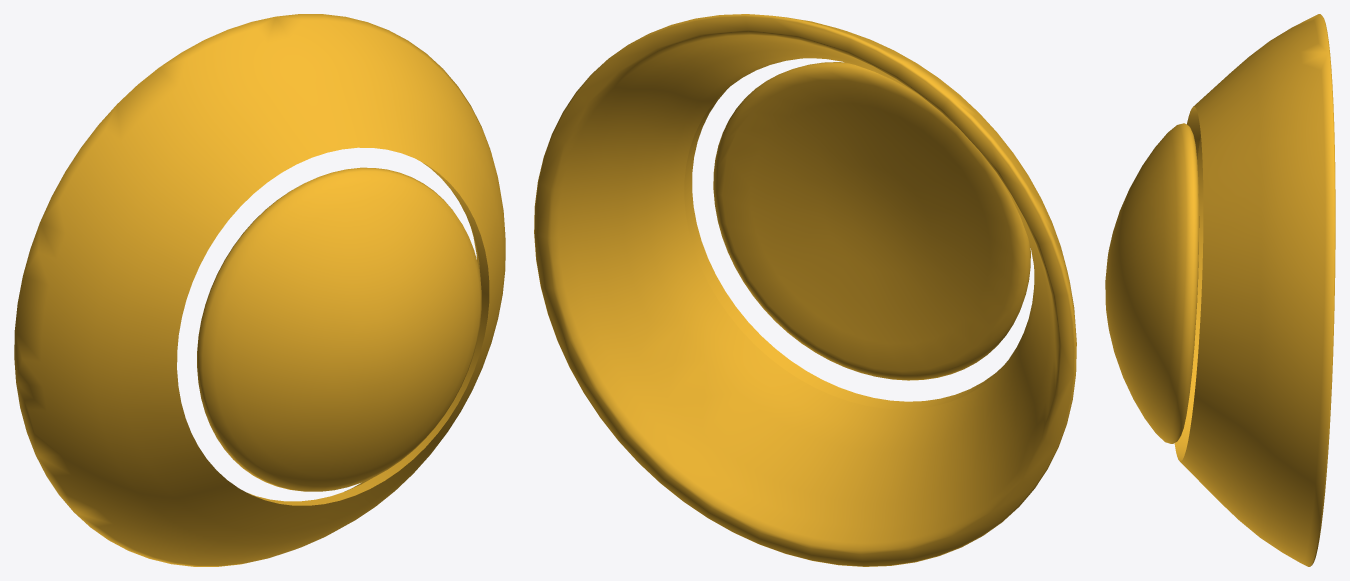
Rendered from nervoso-anterior-segment-of-eyeball-l.glb.
3 views of the same model, side by side, from view 1: azimuth 30°, elevation 25°; view 2: azimuth 150°, elevation 25°; view 3: azimuth 270°, elevation 25° (orthographic). The views are drawn at different scales.
Parts seen in each view (by area): view 1: Anterior segment of eyeball.l, Anterior chamber of eyeball.l; view 2: Anterior segment of eyeball.l, Anterior chamber of eyeball.l; view 3: Anterior segment of eyeball.l, Anterior chamber of eyeball.l.
Boxes of the visible parts, x1,y1,x2,y2 form: Anterior segment of eyeball.l: [14, 14, 505, 566]; Anterior chamber of eyeball.l: [197, 167, 481, 491]; Anterior segment of eyeball.l: [534, 14, 1076, 566]; Anterior chamber of eyeball.l: [713, 62, 1030, 380]; Anterior segment of eyeball.l: [1174, 14, 1335, 566]; Anterior chamber of eyeball.l: [1105, 123, 1199, 443].
Bounding box in the file's own units: 0.022 × 0.022 × 0.00918.
